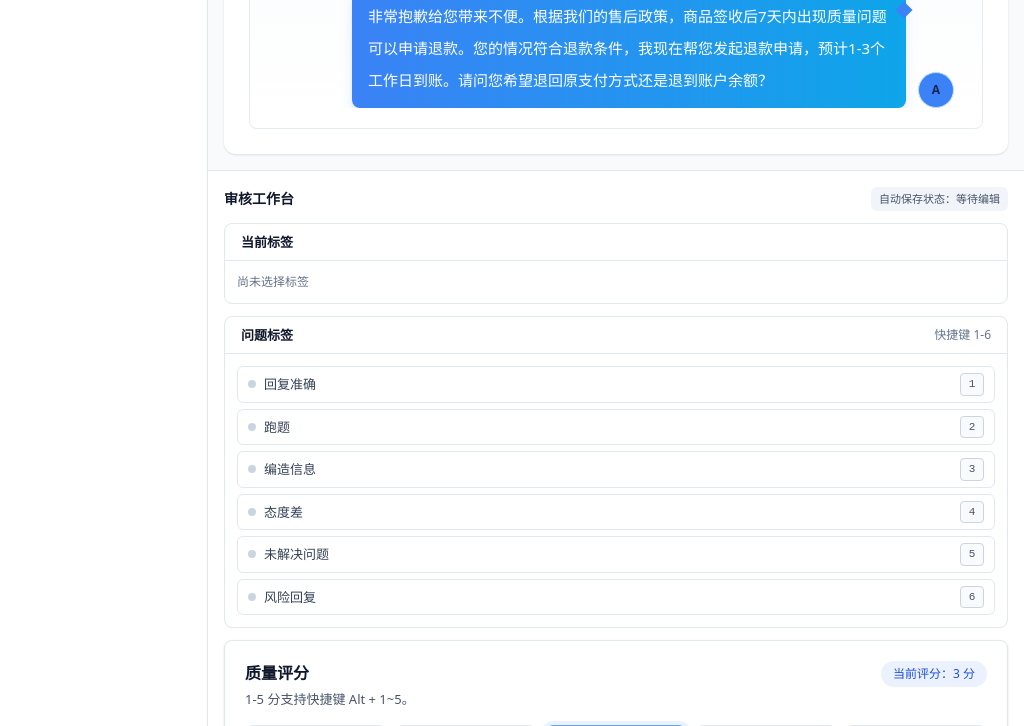
Test: B. 人工标注与持久化 › 再次点击已选标签 → 取消选择并提示「尚未选择标签」，localStorage 同步为空
(page scrolled)
Step 1. Click the button "回复准确 1" → (290, 384), box [237,366,995,402]
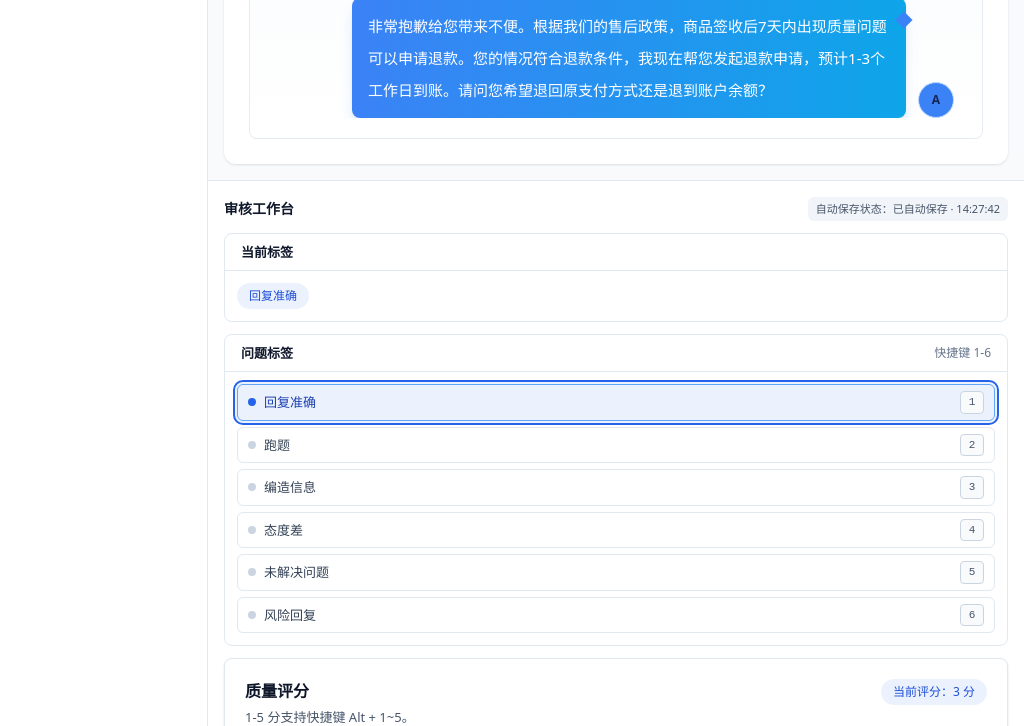
Check: the text "回复准确" below "当前标签" is shown, box [249,287,297,304]
Step 2. Click the button "回复准确 1" → (290, 402), box [237,384,995,420]
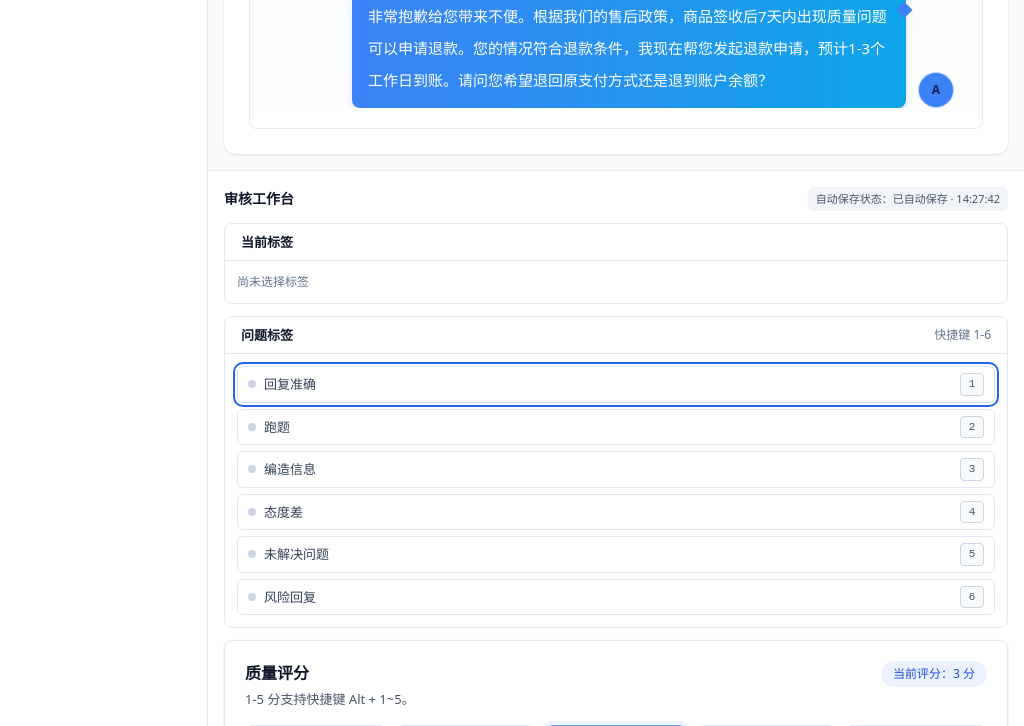
Check: the text "尚未选择标签" is shown, box [237,273,309,291]
